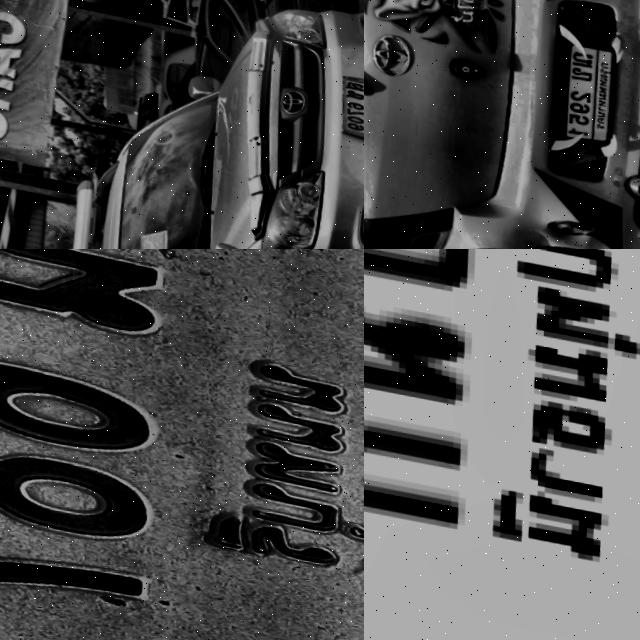license-plate: (0, 249, 364, 640), (364, 249, 640, 640), (549, 29, 619, 141), (333, 65, 364, 134)
